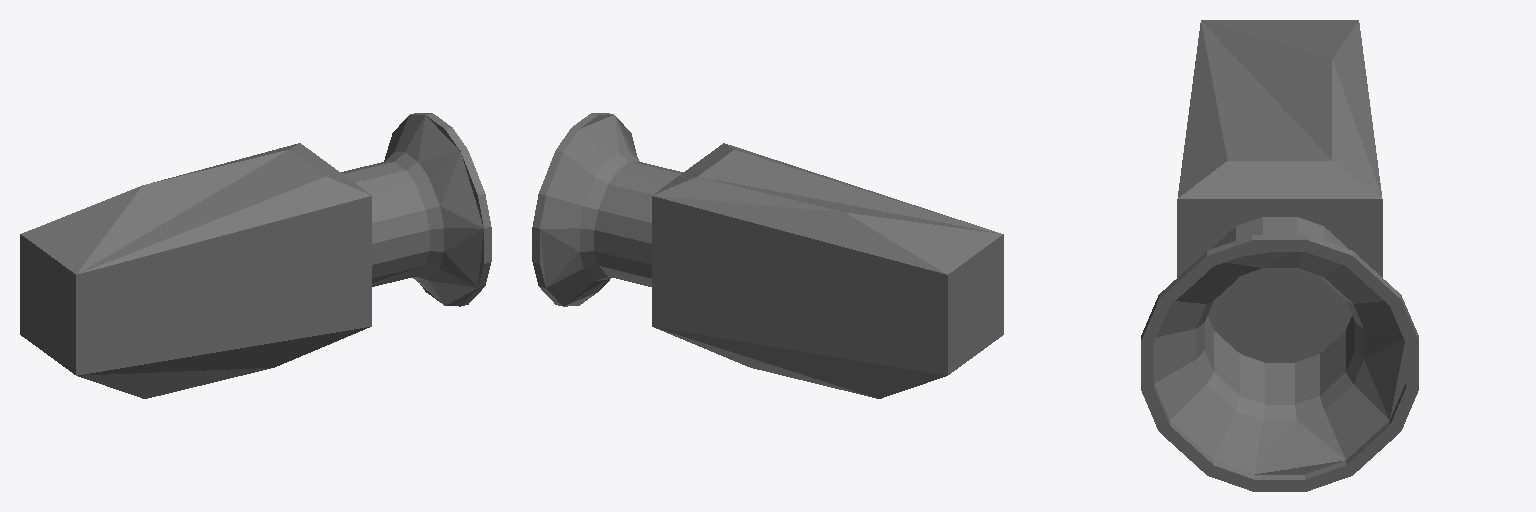
URDF robot description (gen1_0):
<?xml version="1.0"?>
<robot name="gen1_0">

  <link name="gen1_0_link">
  
    <visual>
      <origin xyz="0 0 0" rpy="0 0 0"/>
      <geometry>
        <mesh filename="package://Gen1_0/meshes/Gen_11cyb.stl" scale="0.001 0.001 0.001"/>
      </geometry>
      <material name="gray">
        <color rgba="0.5 0.5 0.5 1.0"/>
      </material>
    </visual>

    <collision>
      <origin xyz="0 0 0" rpy="0 0 0"/>
      <geometry>
        <mesh filename="package://Gen1_0/meshes/Gen_11cyb.stl" scale="0.001 0.001 0.001"/>
      </geometry>
    </collision>

    <inertial>
      <mass value="0.1"/>
      <origin xyz="0 0 0" rpy="0 0 0"/>
      <inertia
        ixx="0.0001" ixy="0.0" ixz="0.0"
        iyy="0.0001" iyz="0.0"
        izz="0.0001"/>
    </inertial>
    
  </link>

</robot>

--- What the picture shows (computed from the rendered views, not written in the file) ---
3 views of the same robot in one strip: view 1: azimuth 30°, elevation 25°; view 2: azimuth 150°, elevation 25°; view 3: azimuth 270°, elevation 25° (orthographic).
Model gen1_0 with 1 links and 0 joints (none), rooted at gen1_0_link, posed all joints at 0.
Links seen in each view (by area): view 1: gen1_0_link; view 2: gen1_0_link; view 3: gen1_0_link.
Link boxes in pixels (left/top/right/bottom): gen1_0_link: left=20, top=113, right=491, bottom=398; gen1_0_link: left=532, top=113, right=1003, bottom=398; gen1_0_link: left=1141, top=20, right=1418, bottom=491.
Size in the robot's own frame: 0.025 by 0.0107 by 0.0115 metres.
Meshes: 1 distinct files referenced, 1 mesh visuals loaded (1 binary STL).